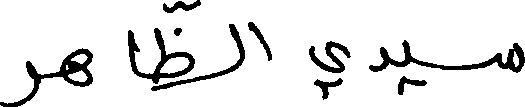ا: (247, 20, 271, 61), (128, 27, 138, 77)
د: (368, 45, 390, 72)
ر: (0, 59, 40, 105)
س: (496, 40, 523, 72)
ظ: (153, 0, 195, 91)
ل: (225, 22, 243, 74)
ه: (58, 45, 93, 86)
ي: (305, 39, 349, 100), (397, 37, 426, 95)
